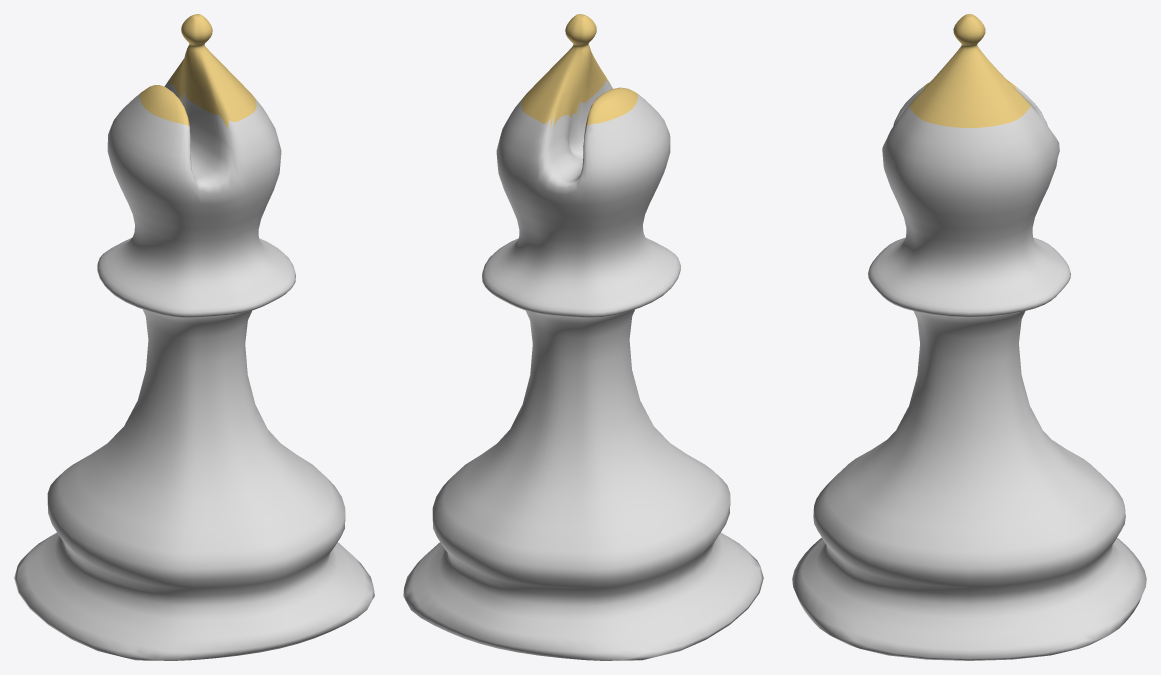
Rendered from sade_b_w.glb.
3 renders of one model, left to right at view 1: azimuth 30°, elevation 25°; view 2: azimuth 150°, elevation 25°; view 3: azimuth 270°, elevation 25°, orthographic.
Visible parts, largest first — view 1: x; view 2: x; view 3: x.
Boxes of the visible parts, x1,y1,x2,y2 form: x: (14, 14, 374, 660); x: (403, 14, 763, 660); x: (792, 14, 1146, 660).
Size of the model in its own units: 0.4861 by 0.9 by 0.4996.
